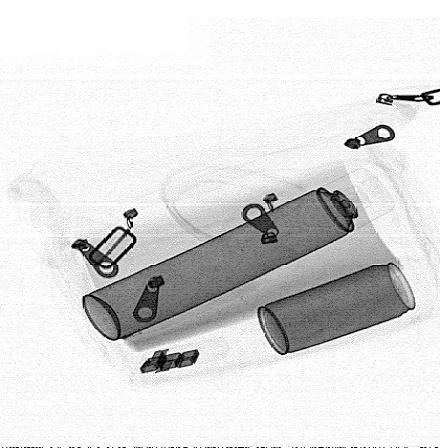Sprayer: (82, 168, 395, 340)
